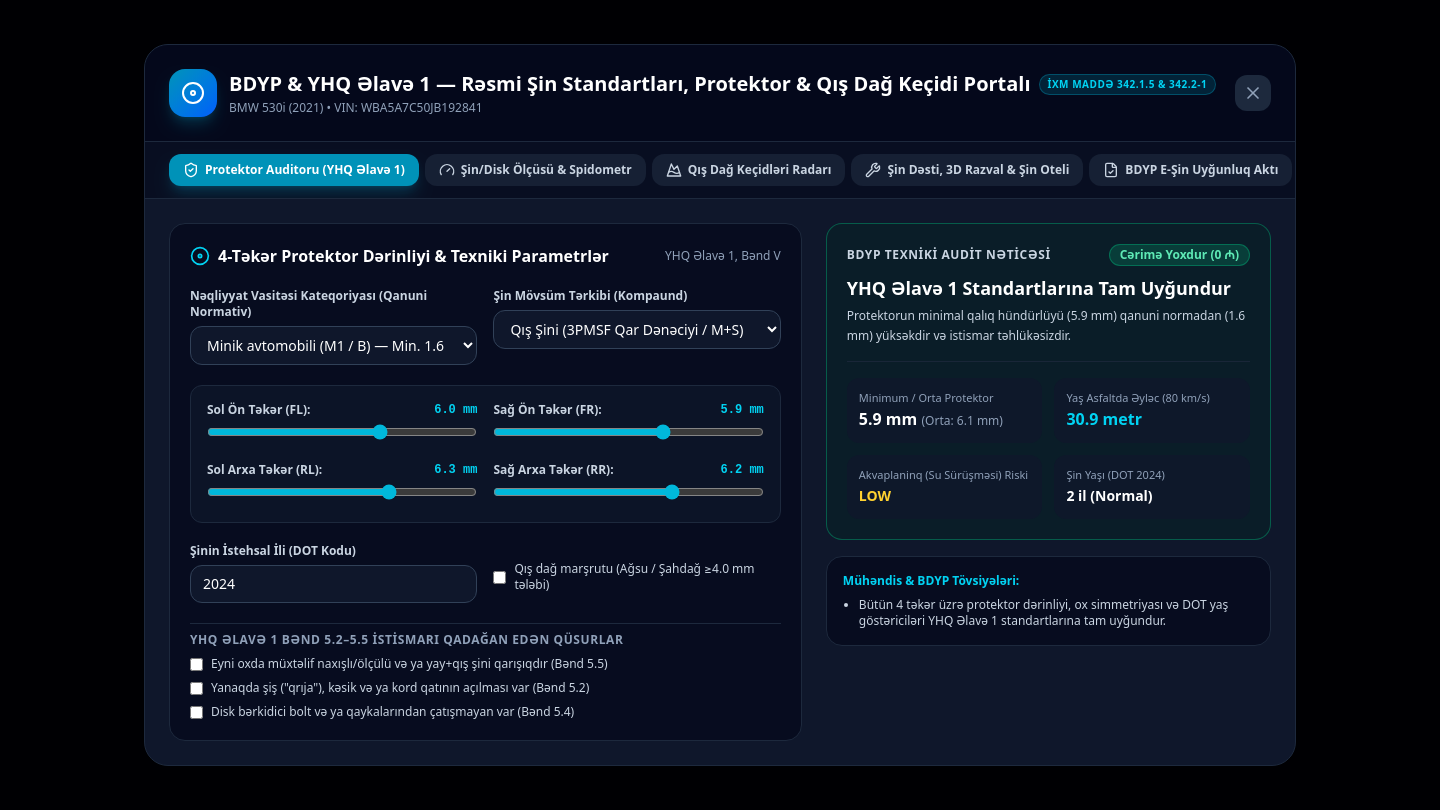
TireComplianceModal component › renders Tread Depth Auditor tab by default and updates verdict when tread drops below 1.6mm
The image size is (1440, 810).
Expected: the element with test id "tread-auditor-panel" is shown, [169, 223, 1271, 741]
Expected: the text with test id "tread-fine-badge" reads "Cərimə Yoxdur (0 ₼)", [1120, 246, 1239, 263]
# Lower Front Left tread slider to 1.1 mm (below 1.6 mm limit)
Set the slider with test id "slider-tread-fl" to "1.1" at (233, 432), box [207, 424, 477, 440]
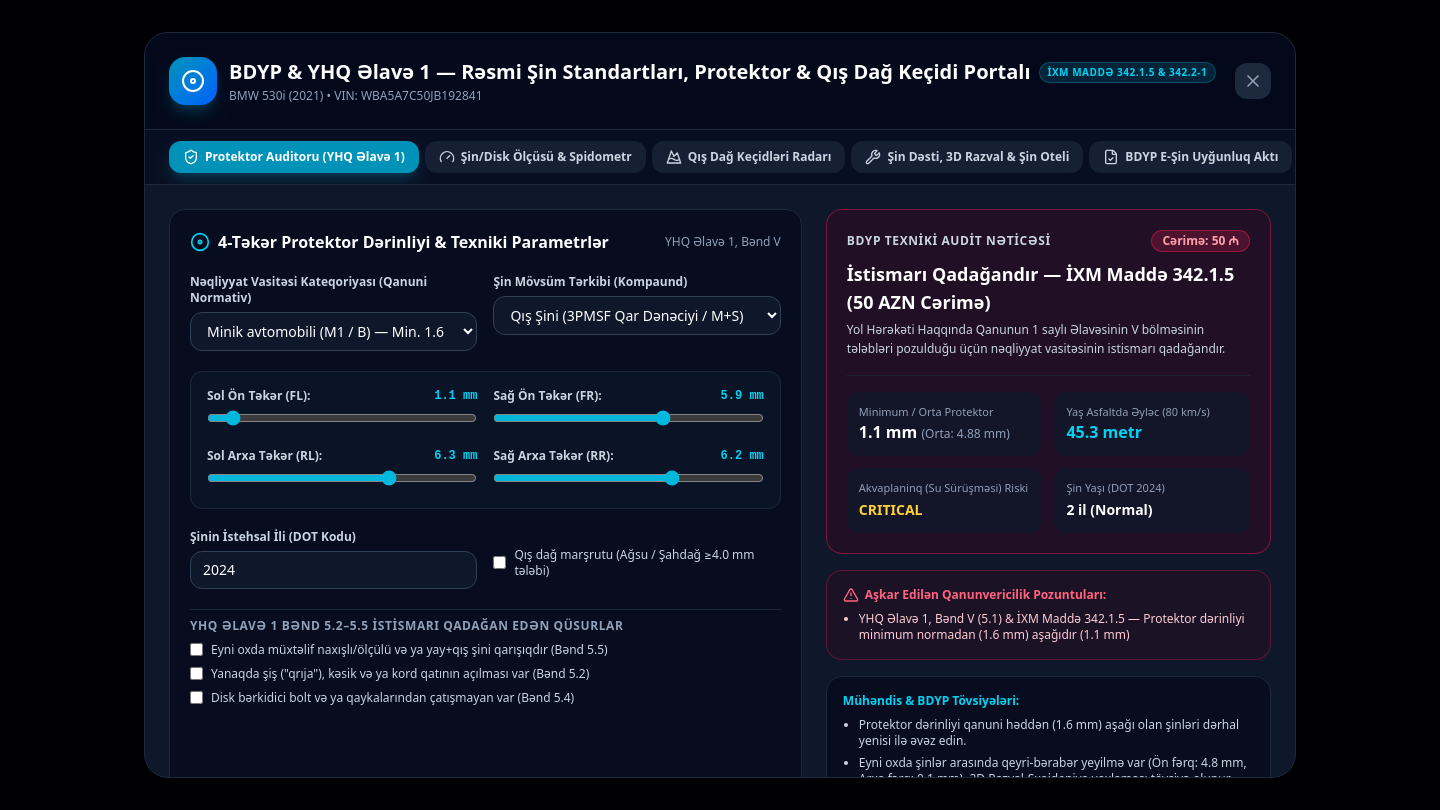
Expected: the element with test id "min-measured-tread" shows "1.1 mm", [859, 421, 1010, 443]
Expected: the text with test id "tread-fine-badge" reads "Cərimə: 50 ₼", [1162, 232, 1239, 249]
Expected: the heading with test id "tread-verdict-title" shows "İXM Maddə 342.1.5", [847, 262, 1234, 314]
